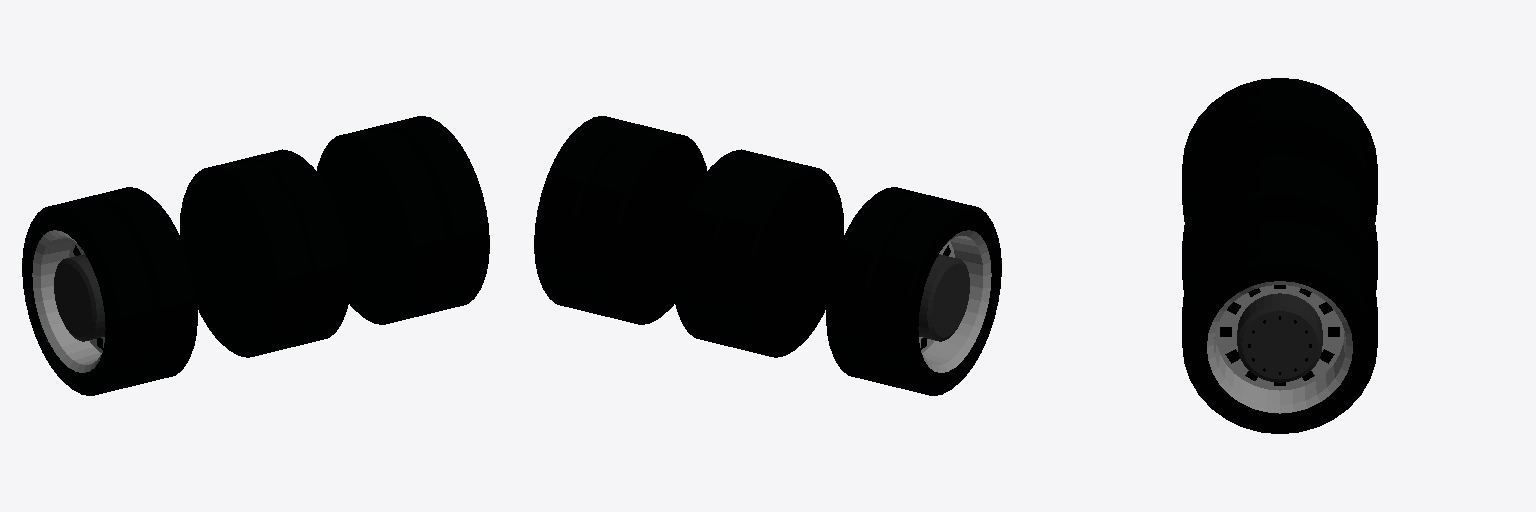
The model's file is wheels.obj.
3 views of the same model, side by side, from view 1: azimuth 30°, elevation 25°; view 2: azimuth 150°, elevation 25°; view 3: azimuth 270°, elevation 25° (orthographic).
Visible parts, largest first — view 1: rear, right, left; view 2: rear, right, left; view 3: rear, left, right.
Part boxes in pixels (bbox=[...]): rear: bbox=[22, 116, 489, 395]; right: bbox=[180, 159, 312, 357]; left: bbox=[245, 149, 350, 346]; rear: bbox=[534, 116, 1001, 395]; right: bbox=[711, 159, 843, 357]; left: bbox=[673, 149, 778, 346]; rear: bbox=[1182, 78, 1377, 433]; left: bbox=[1182, 173, 1377, 289]; right: bbox=[1182, 155, 1377, 259].
Bounding box in the file's own units: 2.51 × 1.14 × 1.14.